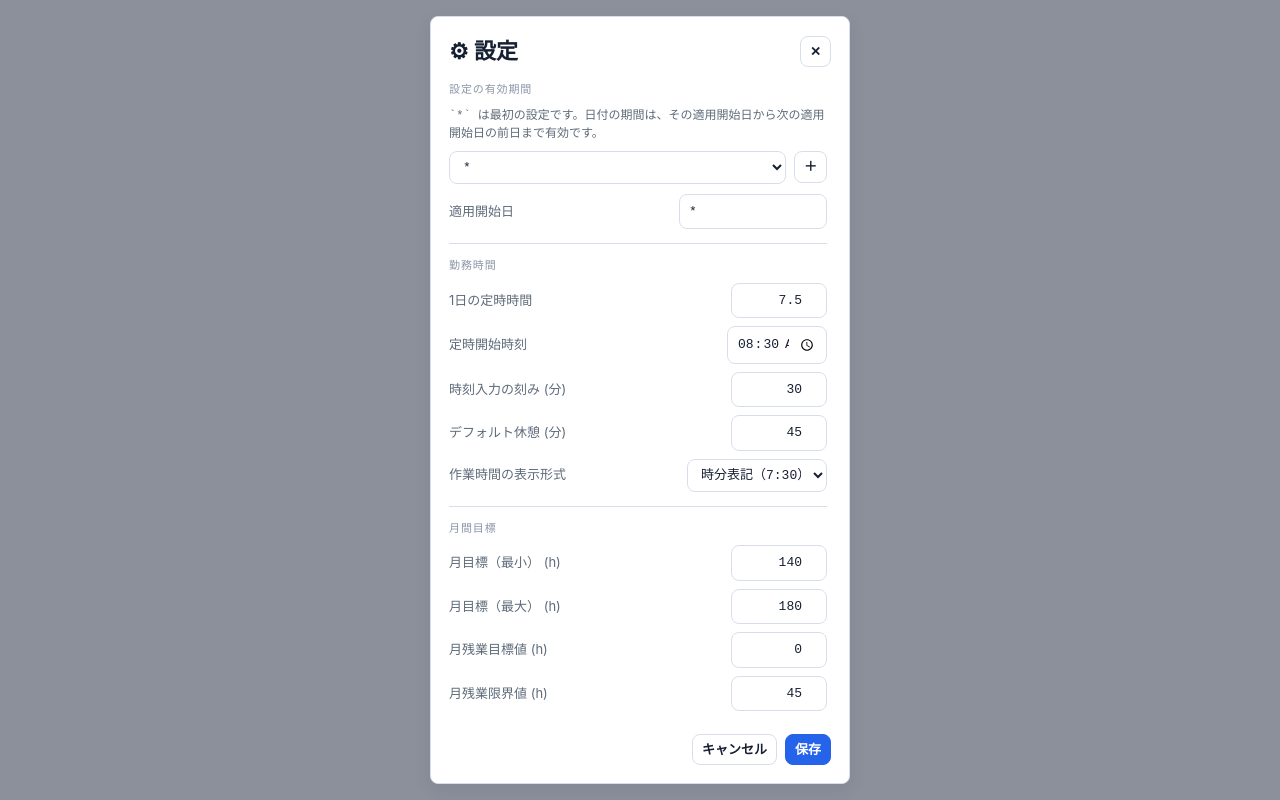
Test: SettingsModal › 適用開始日プルダウンで編集対象を切り替える
The width and height of the screenshot is (1280, 800).
expect the number field named "1日の定時時間" holds "7.5": met, box [731,282,827,318]
Select "2026-05-01" in the dropdown named "編集する期間": (618, 167) [449,150,786,184]
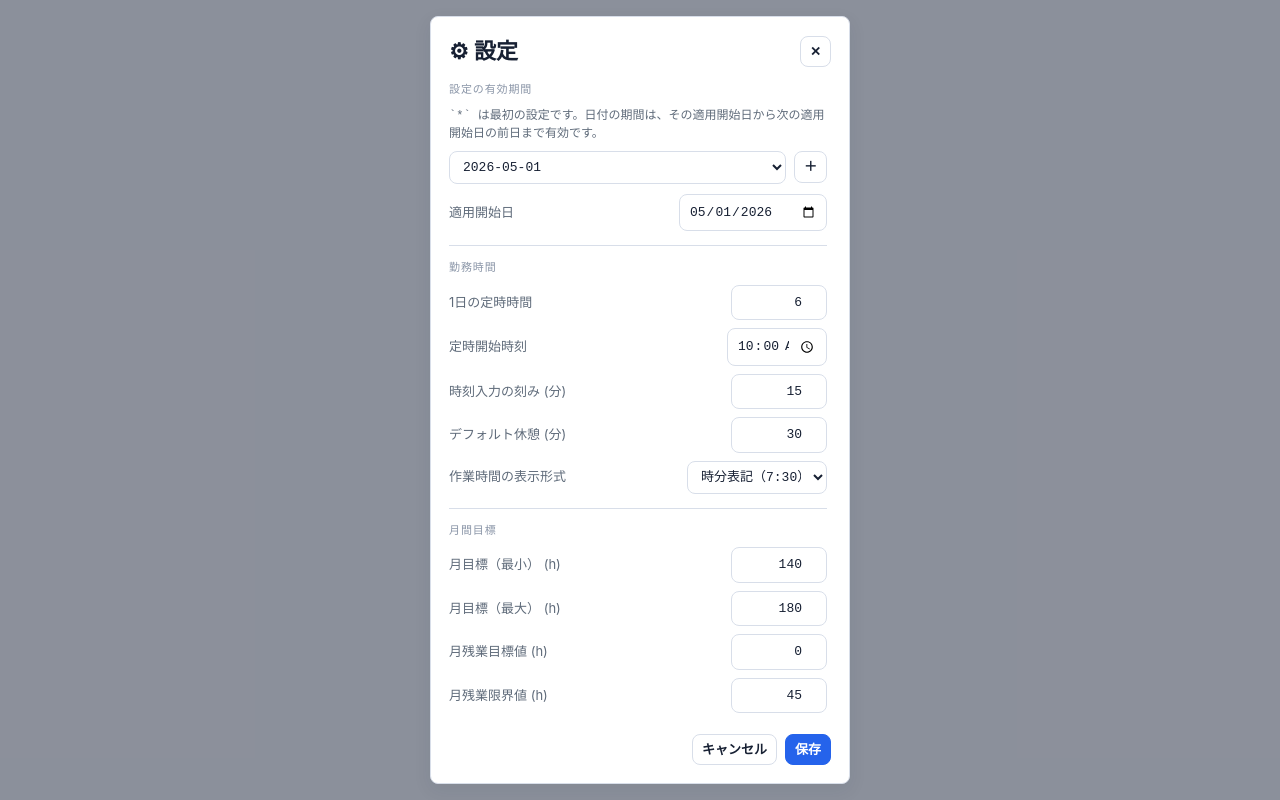
expect the number field named "1日の定時時間" holds "6": met, box [731,284,827,320]
expect the time field named "定時開始時刻" holds "10:00": met, box [727,328,827,366]
